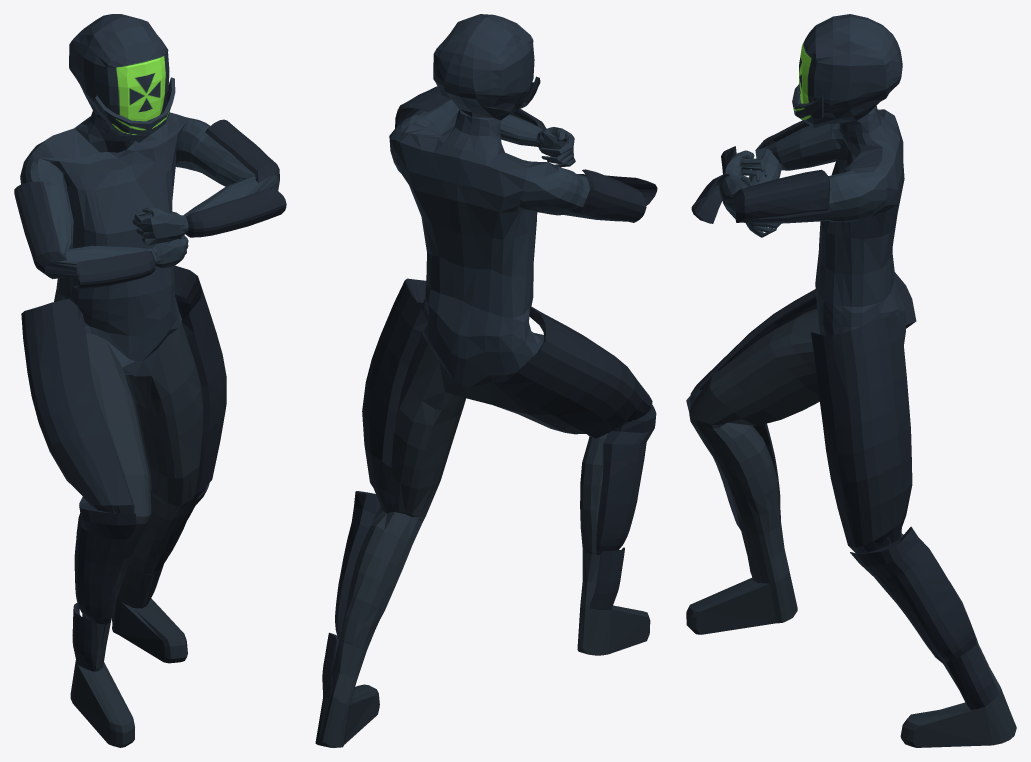
The model's file is Bastion_WB_000007.obj.
3 renders of one model, left to right at view 1: azimuth 30°, elevation 25°; view 2: azimuth 150°, elevation 25°; view 3: azimuth 270°, elevation 25°, orthographic.
Parts seen in each view (by area): view 1: Cube.002; view 2: Cube.002; view 3: Cube.002.
Boxes of the visible parts, x1,y1,x2,y2 form: Cube.002: (14, 14, 286, 747); Cube.002: (315, 14, 657, 747); Cube.002: (686, 14, 1016, 747).
Size of the model in its own units: 1.32 by 3.69 by 1.62.
